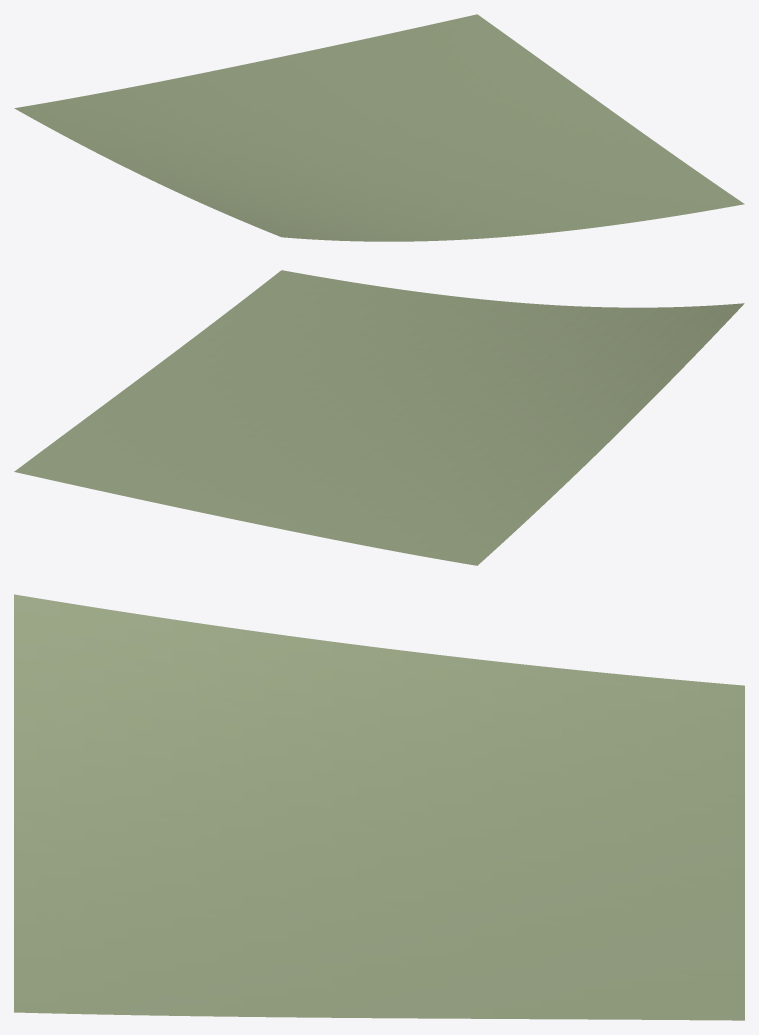
The model's file is expanse-30-22.glb.
3 views of the same model, one above another, from view 1: azimuth 30°, elevation 25°; view 2: azimuth 150°, elevation 25°; view 3: azimuth 270°, elevation 25° (orthographic). The views are drawn at different scales.
Parts seen in each view (by area): view 1: expanse-30-22; view 2: expanse-30-22; view 3: expanse-30-22.
Boxes of the visible parts, box(x1,y1,x2,y2) form: expanse-30-22: box(14, 14, 744, 241); expanse-30-22: box(14, 270, 744, 565); expanse-30-22: box(14, 594, 744, 1020).
Bounding box in the file's own units: 256 × 45.32 × 256.
